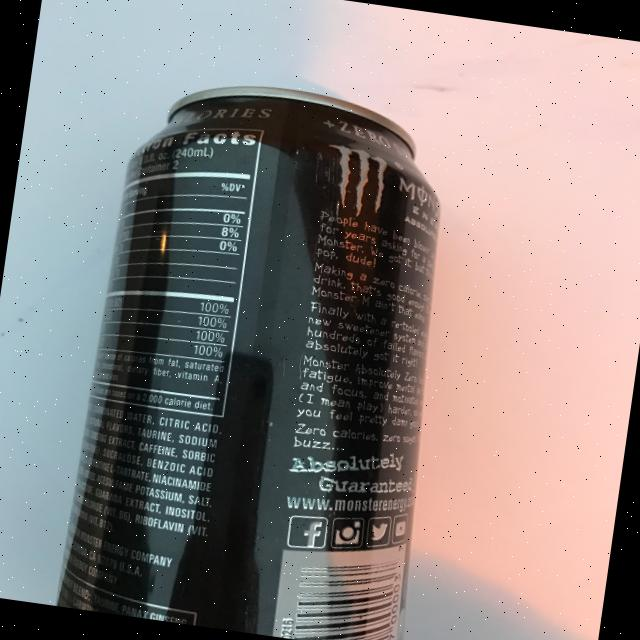metal: (56, 66, 477, 640)
